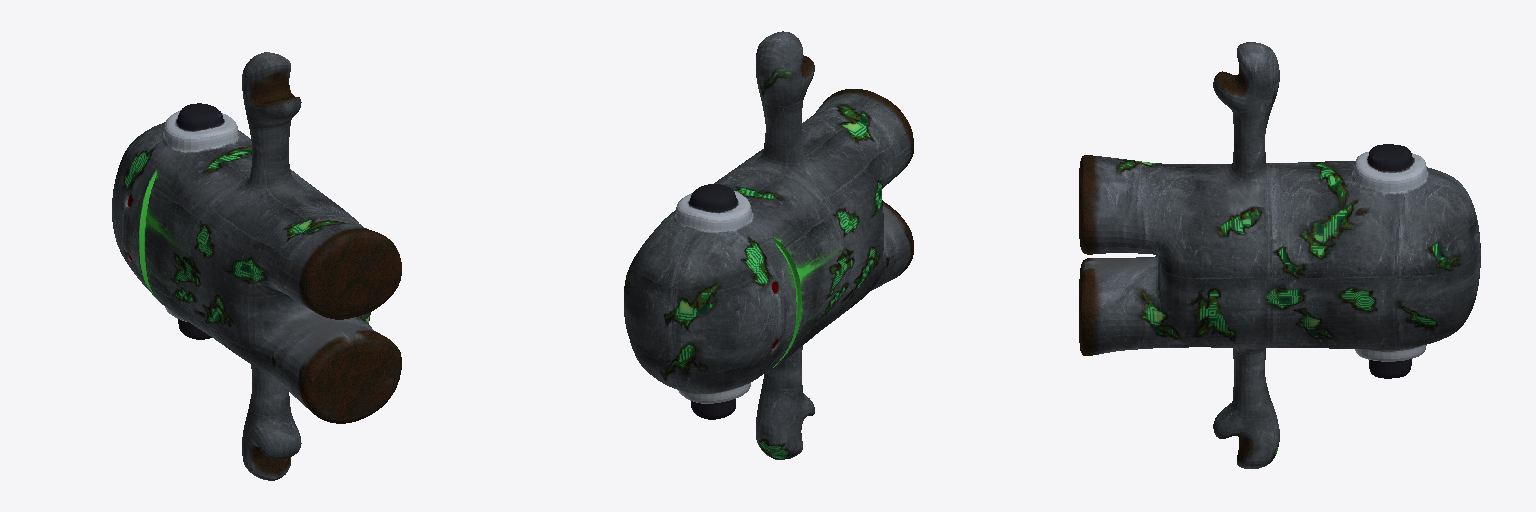
The picture shows the model from 3 angles: view 1: azimuth 30°, elevation 25°; view 2: azimuth 150°, elevation 25°; view 3: azimuth 270°, elevation 25°; orthographic projection.
Visible parts, largest first — view 1: enemigo1:pCube3; view 2: enemigo1:pCube3; view 3: enemigo1:pCube3.
Part boxes in pixels (x1,y1,x2,y2): enemigo1:pCube3: (112,52,401,480); enemigo1:pCube3: (624,31,913,459); enemigo1:pCube3: (1079,42,1480,468).
Size of the model in its own units: 0.6686 by 1.85 by 1.59.
Materials: 1 (1 with a texture image).